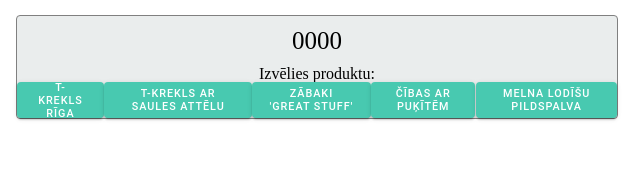
it: should be able to show variants when item is clicked on
The image size is (635, 190).
Click the button "T-krekls ar saules attēlu" at point(178, 100), box x1=104 y1=82 x2=252 y2=118
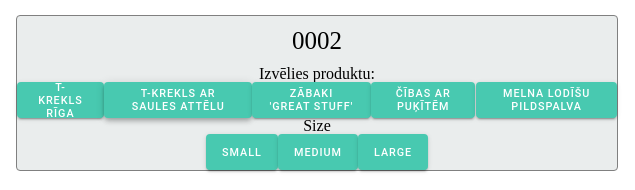
expect the number of buttons is 8: met
expect the button "Small" is shown: met, box x1=206 y1=134 x2=278 y2=170
expect the button "Medium" is shown: met, box x1=278 y1=134 x2=358 y2=170
